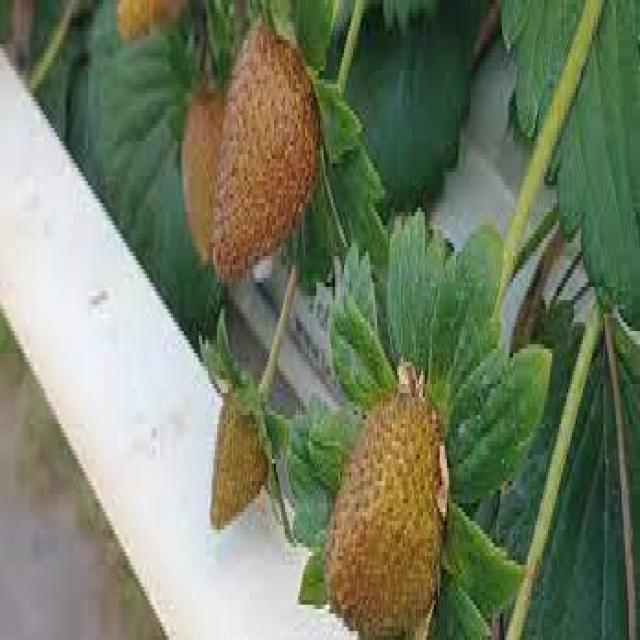Podredumbre de cuero: (214, 6, 318, 294), (332, 393, 438, 629), (199, 370, 266, 542), (172, 86, 218, 239)
